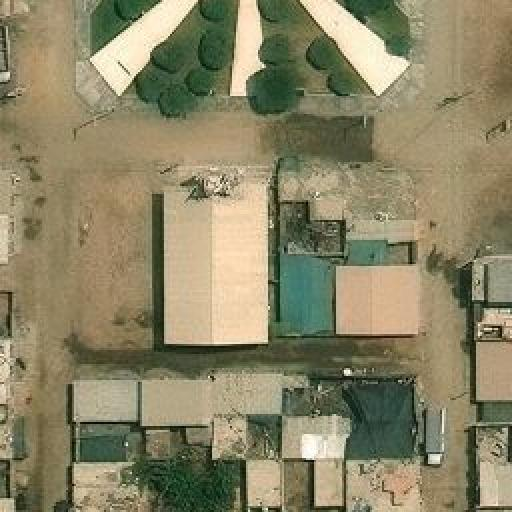manzanas: (69, 365, 427, 510), (160, 164, 424, 351), (79, 0, 425, 116), (468, 248, 510, 510)
